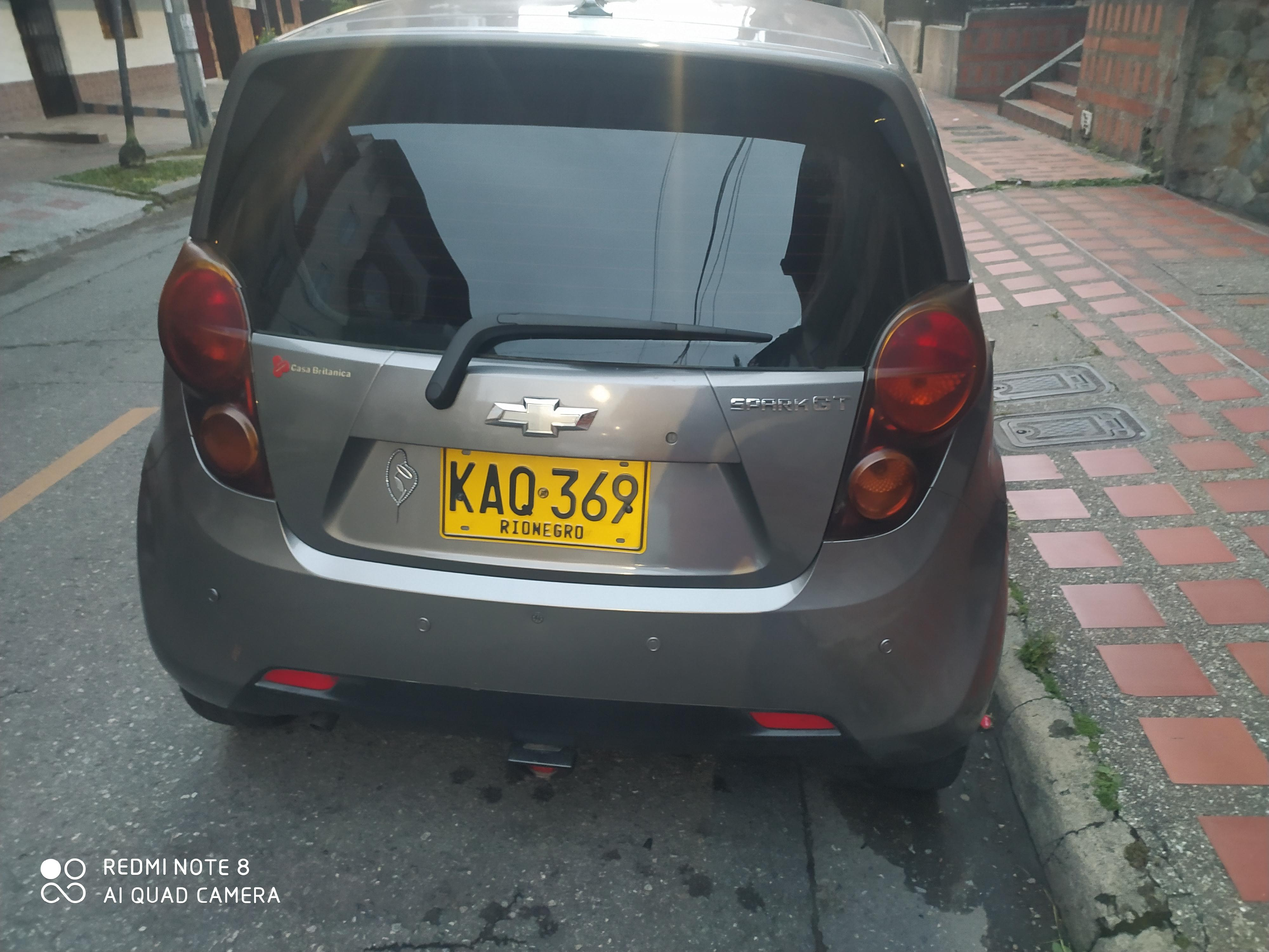placa: (429, 436, 662, 561)
